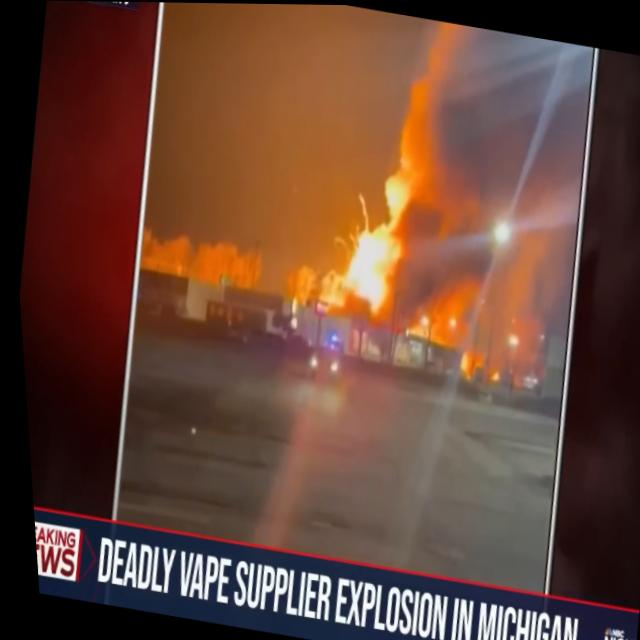Fire: (291, 3, 602, 366)
